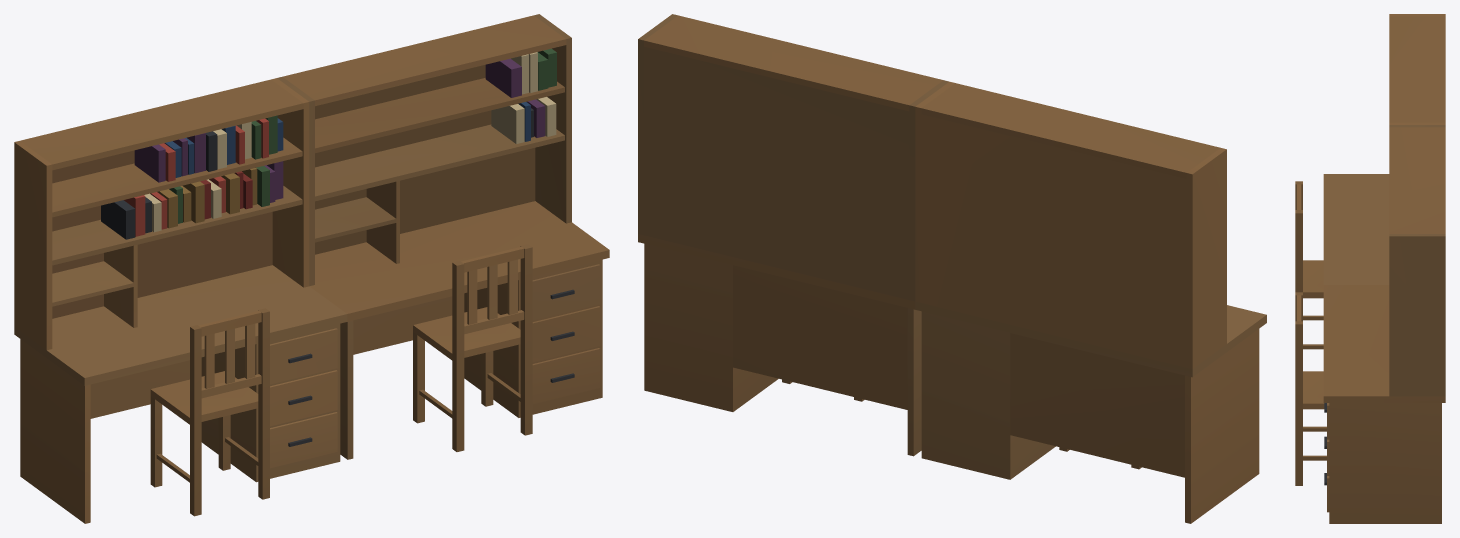
Rendered from table.desk_hutch_pair.oak.glb.
The picture shows the model from 3 angles, left to right: view 1: azimuth 30°, elevation 25°; view 2: azimuth 150°, elevation 25°; view 3: azimuth 270°, elevation 25°; orthographic projection. The views are drawn at different scales.
Parts seen in each view (by area): view 1: table_desk_hutch_pair_oak; view 2: table_desk_hutch_pair_oak; view 3: table_desk_hutch_pair_oak.
Part boxes in pixels (x1,y1,x2,y2): table_desk_hutch_pair_oak: (14, 14, 609, 523); table_desk_hutch_pair_oak: (638, 14, 1266, 523); table_desk_hutch_pair_oak: (1295, 14, 1445, 523).
Size of what is drawn, in the model's own units: 2.8 by 1.7 by 0.8.
